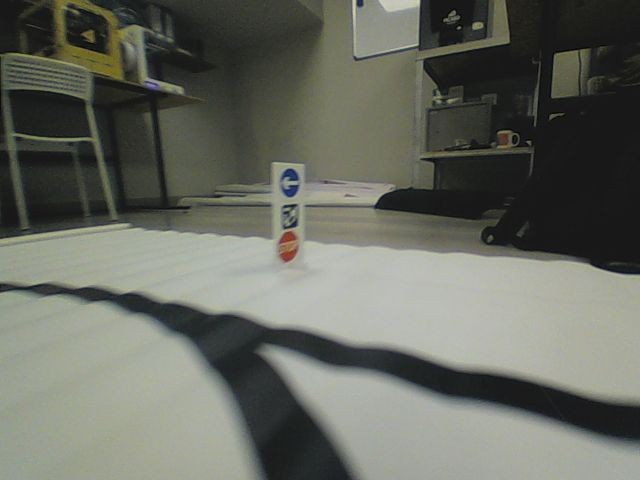Stop: (278, 230, 299, 262)
